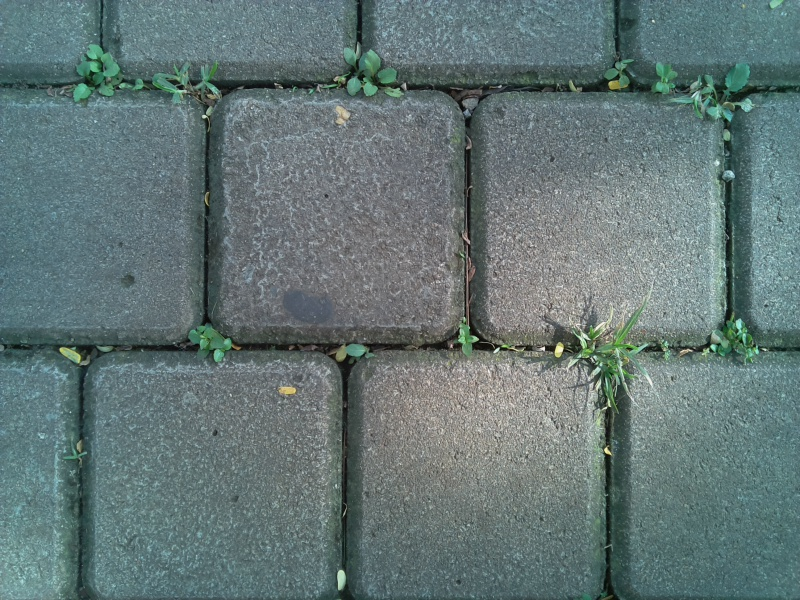Weed: (559, 300, 650, 413), (66, 37, 145, 107), (687, 61, 760, 131), (143, 59, 228, 113), (336, 41, 407, 104), (703, 311, 765, 375), (184, 319, 240, 370), (327, 336, 374, 371), (450, 316, 482, 363), (600, 56, 639, 92), (62, 435, 96, 473), (651, 330, 683, 370), (648, 59, 677, 100)
